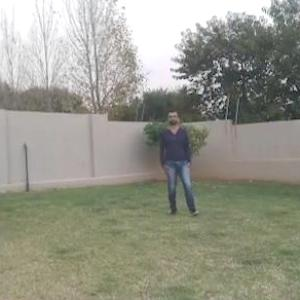follow: (164, 109, 191, 215)
